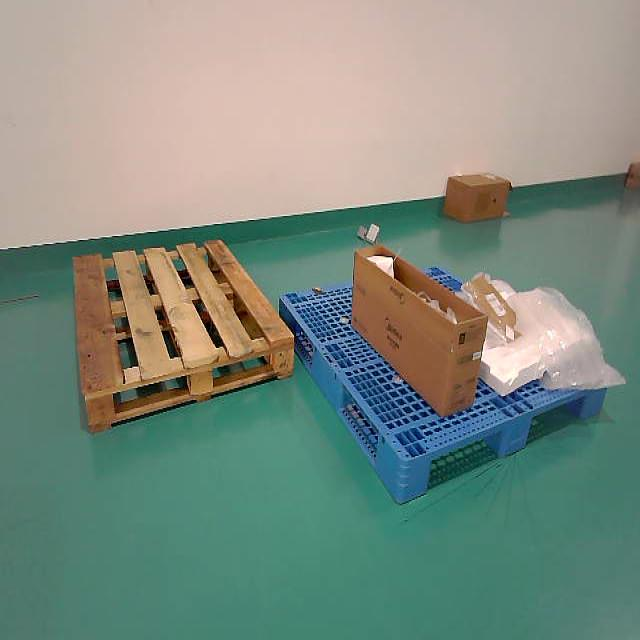euro: (73, 240, 294, 436)
